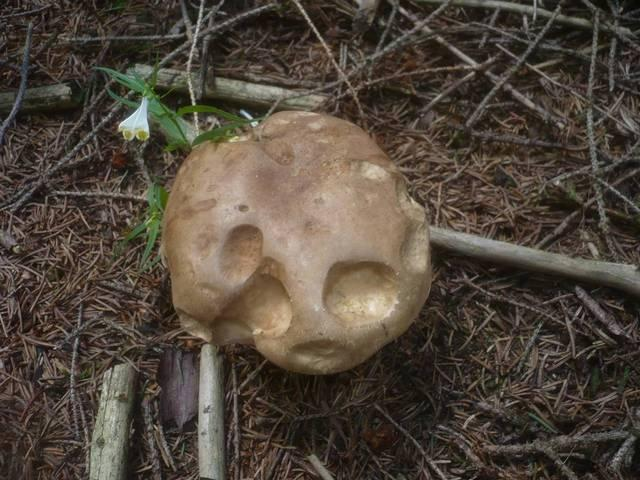poisonous_mushroom: (158, 100, 435, 371)
